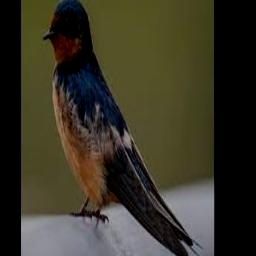Swallow: (44, 0, 202, 256)
